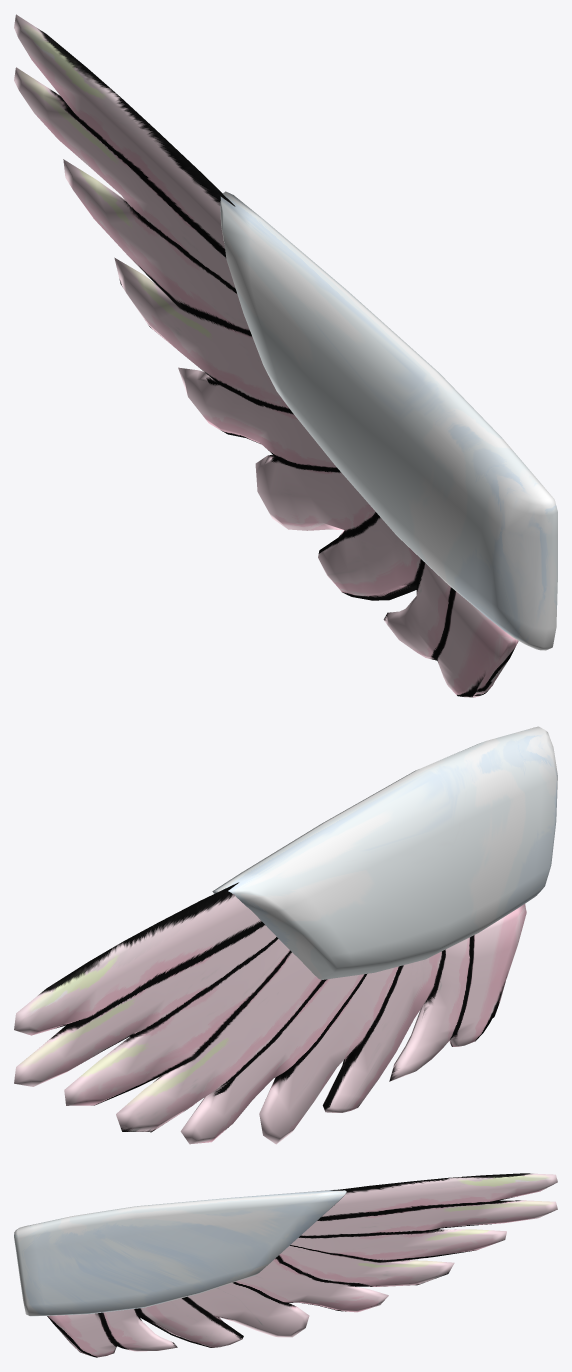
The model's file is wing.FBX.
3 renders of one model, top to bottom at view 1: azimuth 30°, elevation 25°; view 2: azimuth 150°, elevation 25°; view 3: azimuth 270°, elevation 25°, orthographic. The views are drawn at different scales.
Visible parts, largest first — view 1: feather, Box001; view 2: feather, Box001; view 3: feather, Box001.
Boxes of the visible parts, bbox=[...] form: feather: bbox=[14, 14, 518, 697]; Box001: bbox=[220, 191, 557, 650]; feather: bbox=[14, 882, 526, 1144]; Box001: bbox=[212, 726, 557, 979]; feather: bbox=[47, 1173, 557, 1357]; Box001: bbox=[14, 1189, 346, 1316].
Bounding box in the file's own units: 1.99 × 11.52 × 30.89.
Materials: 1 (1 with a texture image).
